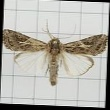Spodoptera litura: (1, 19, 107, 87)
